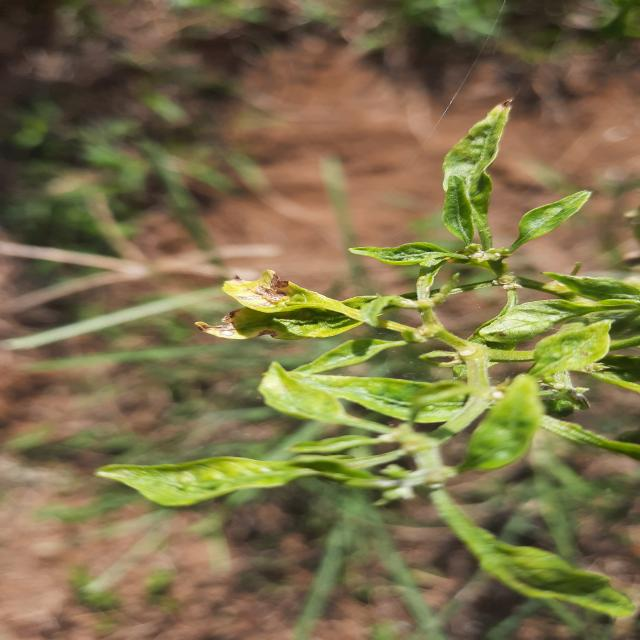bercak_daun: (182, 267, 344, 354)
